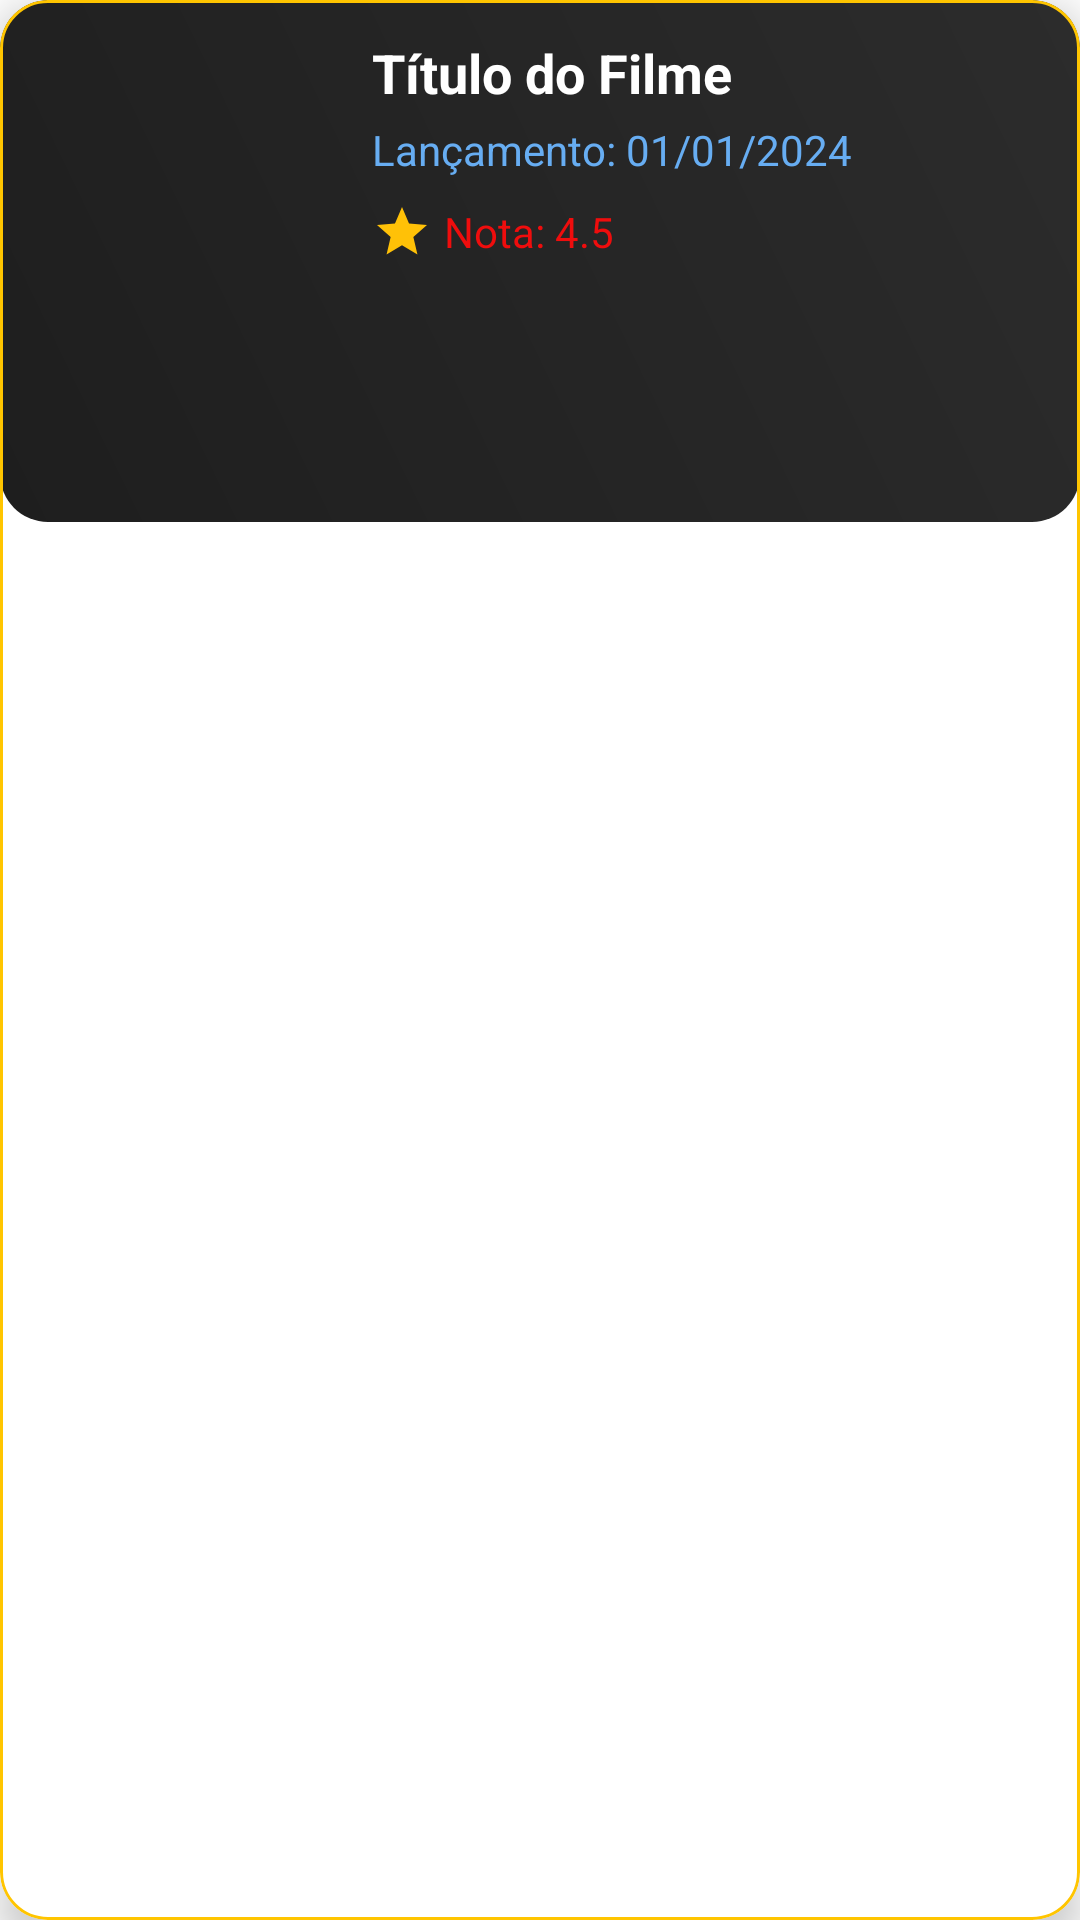

Icons on this 1080*1920 Android screen, each with the point to tap as (x,y):
star: (402,231)
